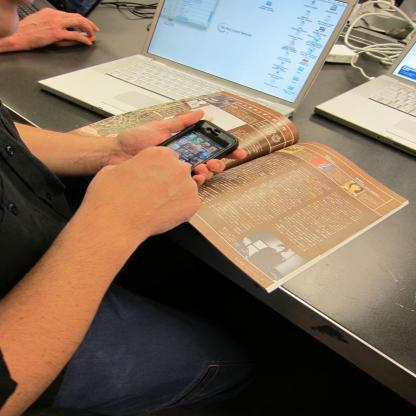board: (33, 0, 357, 119), (316, 36, 416, 156)
